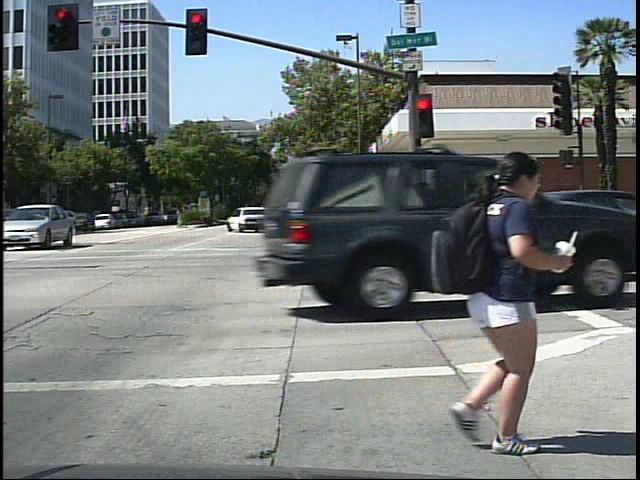person: (406, 129, 579, 458)
